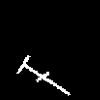double_crochet: (17, 55, 69, 94)
